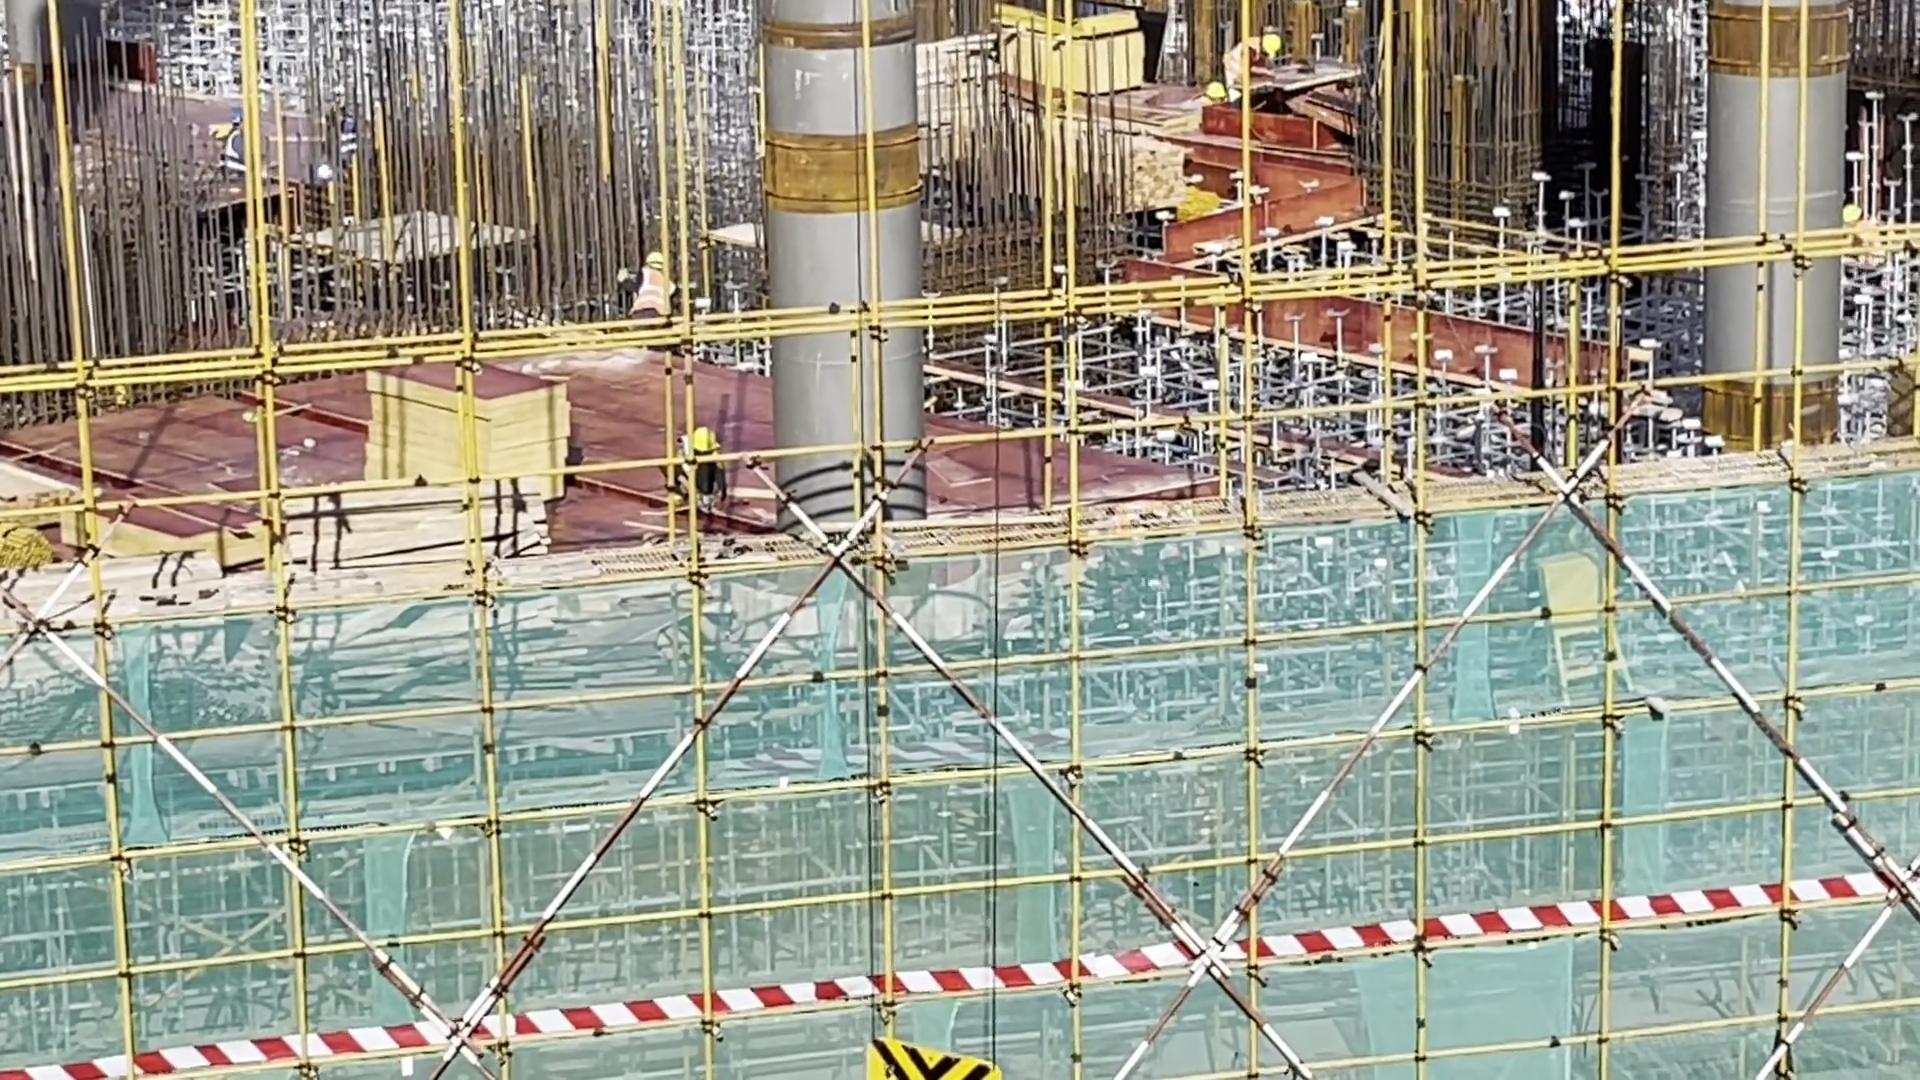board: (363, 362, 570, 506)
helmet: (691, 430, 715, 452), (1261, 34, 1280, 53), (1206, 77, 1224, 97), (645, 251, 664, 265)
hook: (867, 1038, 995, 1080)
person: (667, 423, 725, 519), (613, 245, 679, 326), (1221, 21, 1288, 89)
vest: (1223, 36, 1261, 86), (635, 266, 673, 318)
